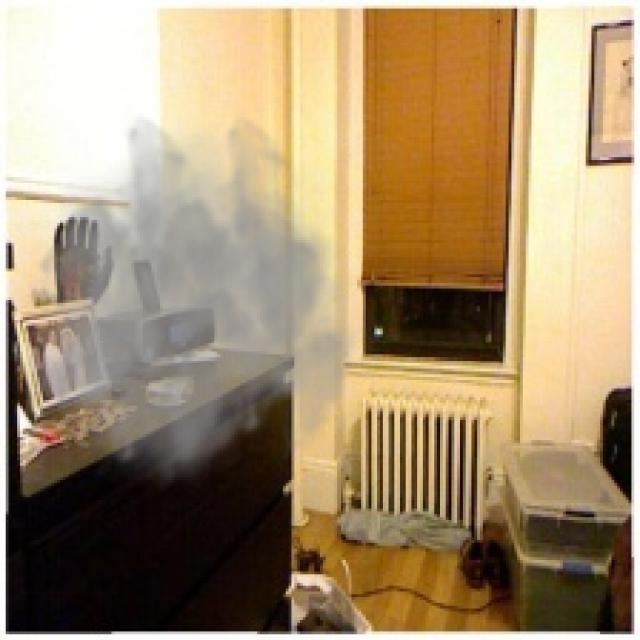Smoke: (26, 112, 383, 494)
